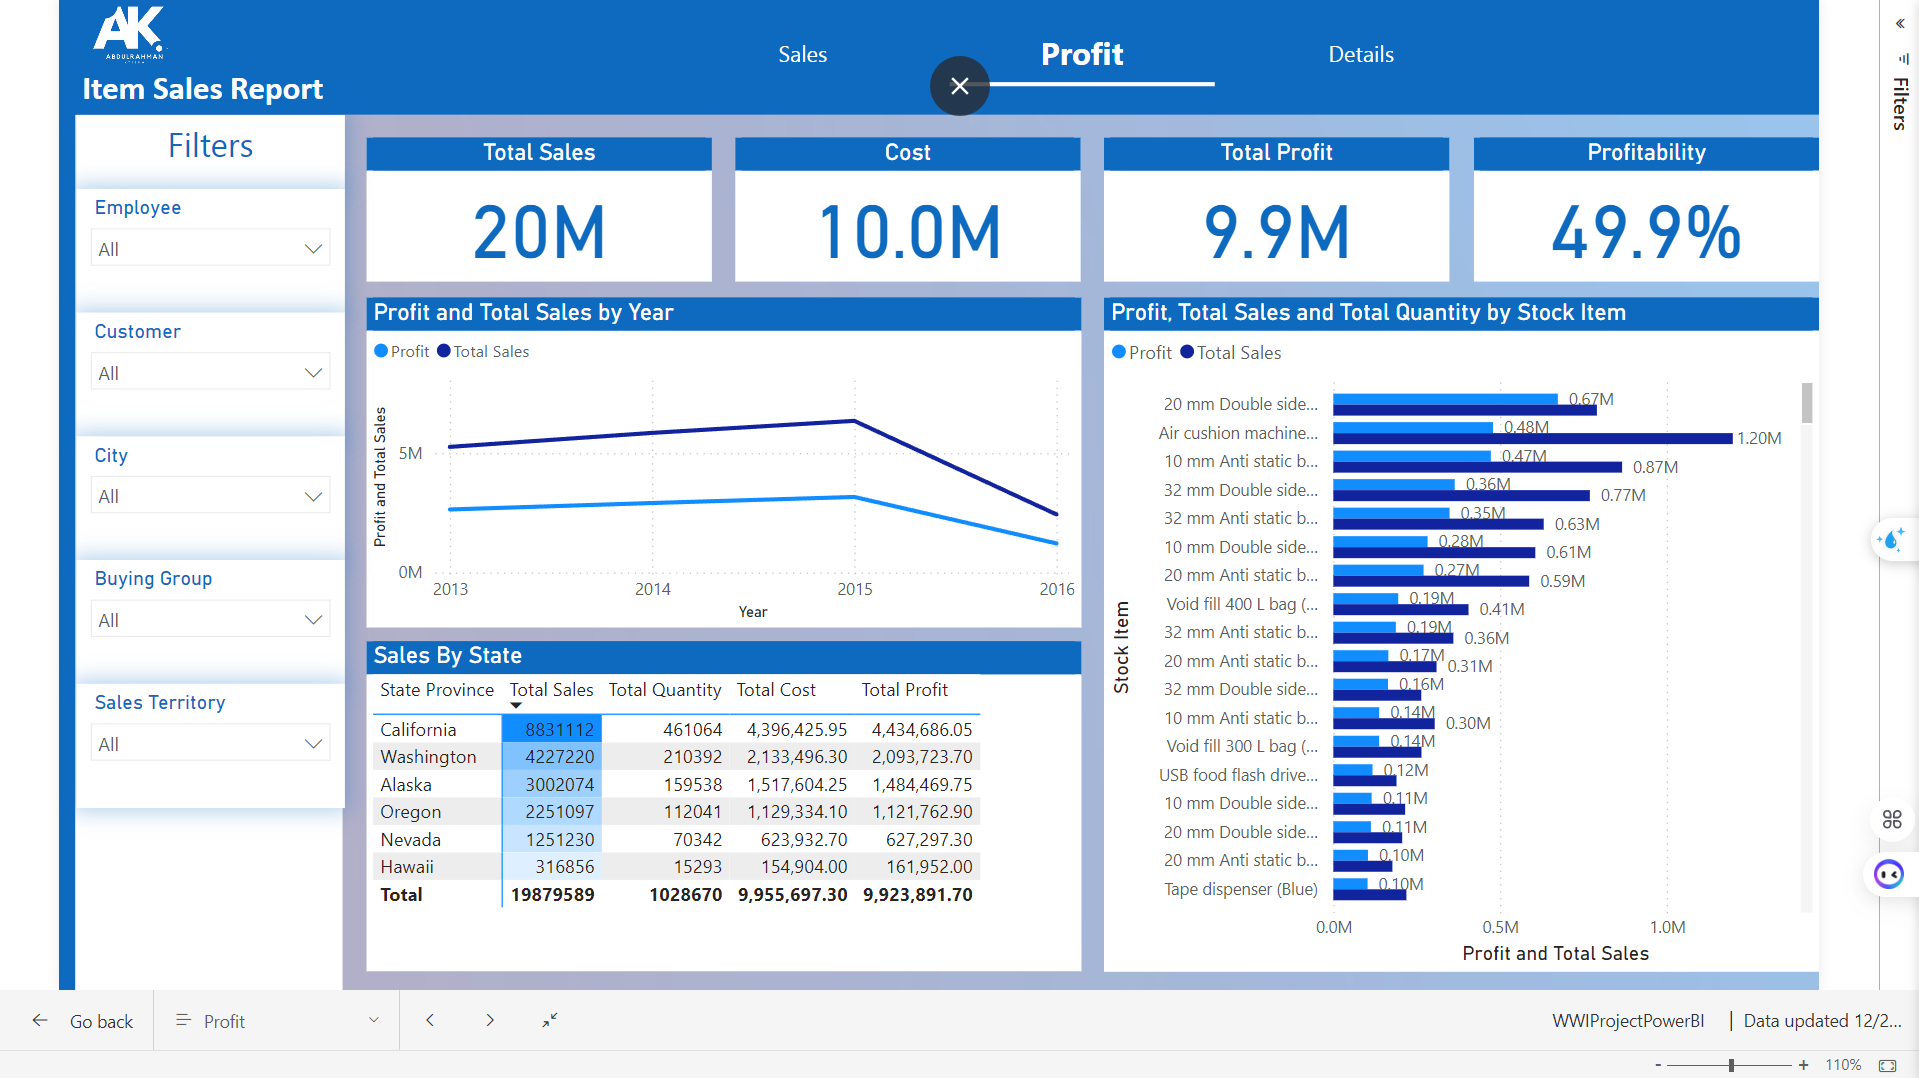

The dashboard page shown, as its layout file describes it:
{"tool":"powerbi","page":{"name":"Profit","canvas":[1280,720],"ordinal":1},"visuals":[{"type":"shape","box":[0,0,1280,83.3],"z":0},{"type":"shape","box":[0,53.3,12.2,666.7],"z":1000},{"type":"shape","box":[12.2,83.3,194.4,636.7],"z":2000},{"type":"textbox","box":[12.2,43.3,252.2,40],"z":3000},{"type":"image","box":[0,0,110,53.3],"z":4000},{"type":"card","title":"Total Sales","fields":{"Values":["Sum(FactSale.Total Excluding Tax)"]},"box":[223.8,100,251.2,105],"z":5000},{"type":"card","title":"Profitability","fields":{"Values":["FactSale.profitability"]},"box":[1028.8,100,251.2,105],"z":6000},{"type":"card","title":"Total Profit","fields":{"Values":["Sum(FactSale.Profit)"]},"box":[760.4,100,251.2,105],"z":7000},{"type":"card","title":"Cost","fields":{"Values":["Sum(FactSale.Cost)"]},"box":[492.1,100,251.2,105],"z":8000},{"type":"textbox","box":[12.5,83.8,195,53.8],"z":9000},{"type":"lineChart","fields":{"Category":["DimDate.Date.Variation.Date Hierarchy.Year","DimDate.Date.Variation.Date Hierarchy.Quarter","DimDate.Date.Variation.Date Hierarchy.Month","DimDate.Date.Variation.Date Hierarchy.Day"],"Y":["Sum(FactSale.Profit)","Sum(FactSale.Total Excluding Tax)"]},"box":[223.8,216.2,520,240],"z":10000},{"type":"clusteredBarChart","fields":{"Category":["DimStockItem.Stock Item"],"Y":["Sum(FactSale.Profit)","Sum(FactSale.Total Excluding Tax)"]},"box":[760,216.2,520,490],"z":11000},{"type":"pivotTable","title":"Sales By State","fields":{"Values":["Sum(FactSale.Total Excluding Tax)","Sum(FactSale.Quantity)","Sum(FactSale.Cost)","Sum(FactSale.Profit)"],"Rows":["DimCity.State Province"]},"box":[223.8,466.2,520,240],"z":12000},{"type":"slicer","fields":{"Values":["DimEmployee.Employee"]},"box":[12.5,137.5,195,90],"z":13000},{"type":"slicer","fields":{"Values":["DimCustomers.Customer"]},"box":[12.5,227.5,195,90],"z":14000},{"type":"slicer","fields":{"Values":["DimCity.City"]},"box":[12.5,317.5,195,90],"z":15000},{"type":"slicer","fields":{"Values":["DimCustomers.Buying Group"]},"box":[12.5,407.5,195,90],"z":16000},{"type":"slicer","fields":{"Values":["DimCity.Sales Territory"]},"box":[12.5,497.5,195,90],"z":17000},{"type":"pageNavigator","box":[444.3,12.9,600,50],"z":18000}]}

Visuals, with their boxes on the page's 1280x720 design canvas (x1, y1, x2, y2). These are canvas units, not pixel positions in the 1919x1078 screenshot, which may show the page scaled, cropped or inside an application window:
shape: {"x1": 0, "y1": 0, "x2": 1280, "y2": 83}
shape: {"x1": 0, "y1": 53, "x2": 12, "y2": 720}
shape: {"x1": 12, "y1": 83, "x2": 207, "y2": 720}
textbox: {"x1": 12, "y1": 43, "x2": 264, "y2": 83}
image: {"x1": 0, "y1": 0, "x2": 110, "y2": 53}
"Total Sales" card: {"x1": 224, "y1": 100, "x2": 475, "y2": 205}
"Profitability" card: {"x1": 1029, "y1": 100, "x2": 1280, "y2": 205}
"Total Profit" card: {"x1": 760, "y1": 100, "x2": 1012, "y2": 205}
"Cost" card: {"x1": 492, "y1": 100, "x2": 743, "y2": 205}
textbox: {"x1": 12, "y1": 84, "x2": 208, "y2": 138}
lineChart - DimDate.Date.Variation.Date Hierarchy.Year x DimDate.Date.Variation.Date Hierarchy.Quarter: {"x1": 224, "y1": 216, "x2": 744, "y2": 456}
clusteredBarChart - DimStockItem.Stock Item x Sum(FactSale.Profit): {"x1": 760, "y1": 216, "x2": 1280, "y2": 706}
"Sales By State" pivotTable: {"x1": 224, "y1": 466, "x2": 744, "y2": 706}
slicer - DimEmployee.Employee: {"x1": 12, "y1": 138, "x2": 208, "y2": 228}
slicer - DimCustomers.Customer: {"x1": 12, "y1": 228, "x2": 208, "y2": 318}
slicer - DimCity.City: {"x1": 12, "y1": 318, "x2": 208, "y2": 408}
slicer - DimCustomers.Buying Group: {"x1": 12, "y1": 408, "x2": 208, "y2": 498}
slicer - DimCity.Sales Territory: {"x1": 12, "y1": 498, "x2": 208, "y2": 588}
pageNavigator: {"x1": 444, "y1": 13, "x2": 1044, "y2": 63}
